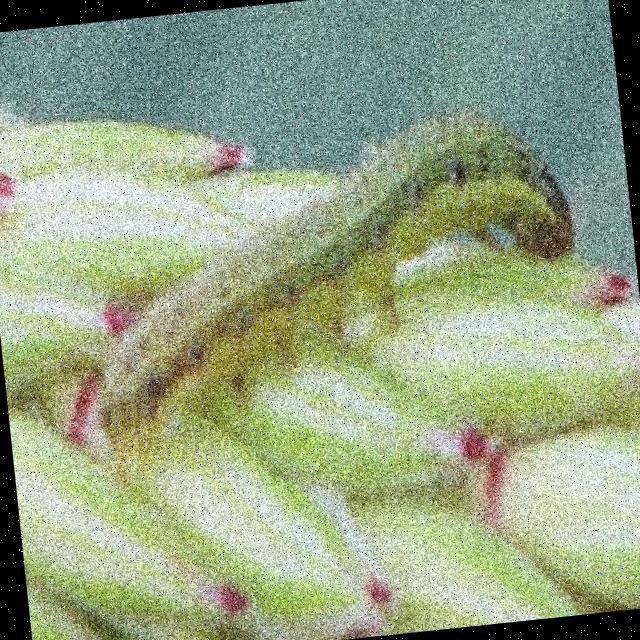worm: (46, 90, 607, 492)
